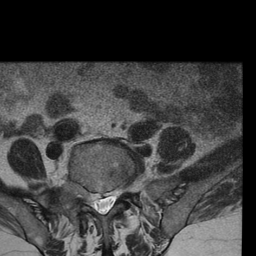CCS_normal: (97, 185, 106, 221)
LFS_normal: (116, 177, 126, 203)
LLS_normal: (107, 184, 116, 214)
RFS_normal: (80, 177, 89, 210)
RLS_normal: (89, 183, 97, 216)
